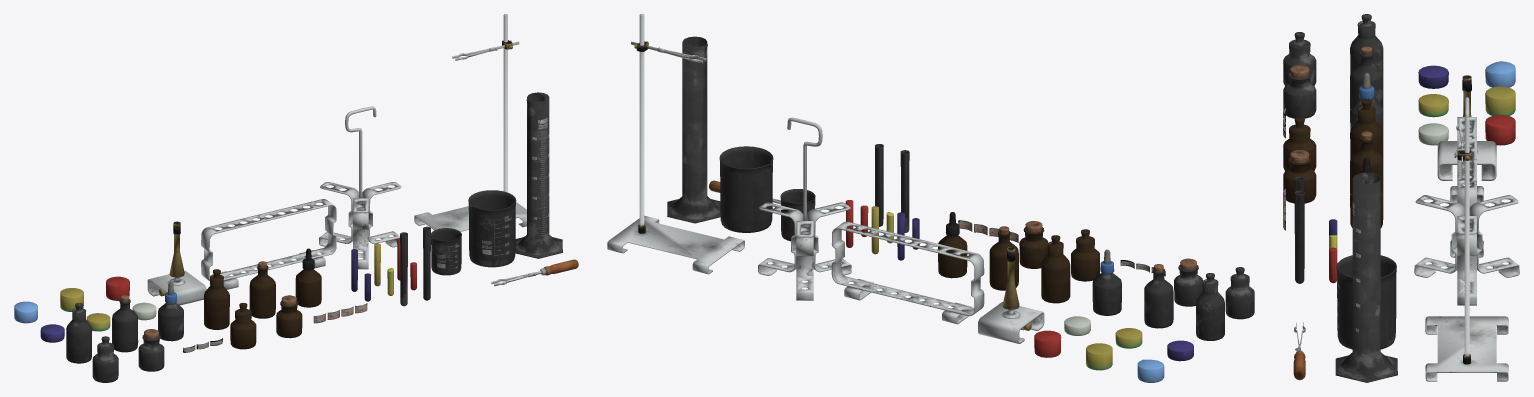
File: chemistry_set_1k.glb
3 views of the same model, side by side, from view 1: azimuth 30°, elevation 25°; view 2: azimuth 150°, elevation 25°; view 3: azimuth 270°, elevation 25° (orthographic). The views are drawn at different scales.
Parts seen in each view (by area): view 1: chemistry_set_beaker_large, chemistry_set_beaker_med, chemistry_set_test_tube_stand_a, chemistry_set_test_tube_stand_b, chemistry_set_clamp_stand, chemistry_set_bunsen_burner, chemistry_set_beaker_small, chemistry_set_bottle_clear_c, chemistry_set_bottle_dark_c, chemistry_set_bottle_dark_d, chemistry_set_bottle_clear_d, chemistry_set_bottle_dark_e (+11 smaller); view 2: chemistry_set_beaker_large, chemistry_set_clamp_stand, chemistry_set_beaker_med, chemistry_set_test_tube_stand_a, chemistry_set_test_tube_stand_b, chemistry_set_bunsen_burner, chemistry_set_bottle_dark_c, chemistry_set_bottle_clear_c, chemistry_set_bottle_clear_d, chemistry_set_bottle_dark_d, chemistry_set_bottle_clear_e, chemistry_set_bottle_clear_a (+10 smaller); view 3: chemistry_set_beaker_large, chemistry_set_clamp_stand, chemistry_set_test_tube_stand_b, chemistry_set_beaker_med, chemistry_set_bunsen_burner, chemistry_set_test_tube_stand_a, chemistry_set_bottle_clear_b, chemistry_set_bottle_clear_d, chemistry_set_bottle_dark_b, chemistry_set_bottle_clear_c, chemistry_set_bottle_dark_c, chemistry_set_test_tube_a (+16 smaller).
Boxes of the visible parts, box(x1,y1,x2,y2) form: chemistry_set_beaker_large: box(515, 92, 562, 258); chemistry_set_beaker_med: box(468, 190, 516, 267); chemistry_set_test_tube_stand_a: box(201, 199, 336, 289); chemistry_set_test_tube_stand_b: box(319, 106, 401, 269); chemistry_set_clamp_stand: box(414, 14, 526, 231); chemistry_set_bunsen_burner: box(147, 221, 206, 305); chemistry_set_beaker_small: box(431, 228, 461, 275); chemistry_set_bottle_clear_c: box(66, 308, 92, 363); chemistry_set_bottle_dark_c: box(204, 275, 229, 329); chemistry_set_bottle_dark_d: box(249, 265, 275, 318); chemistry_set_bottle_clear_d: box(112, 299, 138, 352); chemistry_set_bottle_dark_e: box(295, 269, 321, 307); chemistry_set_beaker_large: box(667, 36, 720, 223); chemistry_set_clamp_stand: box(607, 14, 744, 274); chemistry_set_beaker_med: box(719, 146, 773, 232); chemistry_set_test_tube_stand_a: box(831, 221, 984, 324); chemistry_set_test_tube_stand_b: box(758, 117, 851, 300); chemistry_set_bunsen_burner: box(978, 247, 1044, 343); chemistry_set_bottle_dark_c: box(1041, 241, 1070, 303); chemistry_set_bottle_clear_c: box(1195, 279, 1224, 340); chemistry_set_bottle_clear_d: box(1144, 268, 1173, 328); chemistry_set_bottle_dark_d: box(989, 231, 1018, 290); chemistry_set_bottle_clear_e: box(1092, 273, 1121, 315); chemistry_set_bottle_clear_a: box(1225, 274, 1254, 319); chemistry_set_beaker_large: box(1335, 172, 1397, 382); chemistry_set_clamp_stand: box(1425, 117, 1508, 381); chemistry_set_test_tube_stand_b: box(1414, 97, 1519, 305); chemistry_set_beaker_med: box(1336, 255, 1396, 349); chemistry_set_bunsen_burner: box(1437, 75, 1496, 180); chemistry_set_test_tube_stand_a: box(1450, 117, 1483, 257); chemistry_set_bottle_clear_b: box(1283, 72, 1316, 118); chemistry_set_bottle_clear_d: box(1350, 52, 1383, 109); chemistry_set_bottle_dark_b: box(1283, 157, 1316, 203); chemistry_set_bottle_clear_c: box(1350, 21, 1383, 74); chemistry_set_bottle_dark_c: box(1350, 106, 1383, 159); chemistry_set_test_tube_a: box(1294, 190, 1304, 283).
Bounding box in the file's own units: 1.08 × 0.429 × 0.3539.
Materials: 2 (2 with a texture image).
